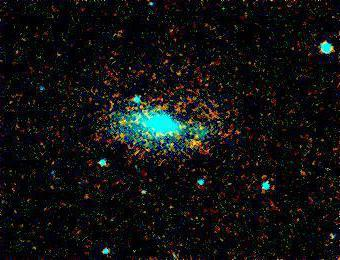star: (187, 127, 217, 157)
